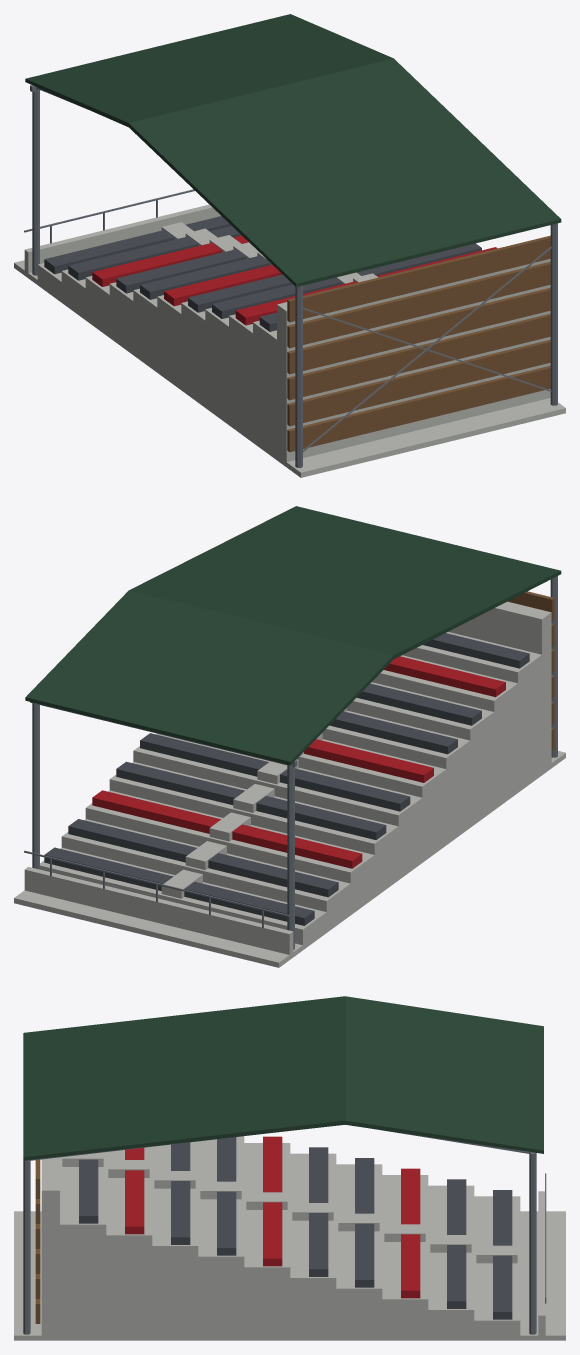
Rendered from grada-spa.glb.
3 renders of one model, top to bottom at view 1: azimuth 30°, elevation 25°; view 2: azimuth 150°, elevation 25°; view 3: azimuth 270°, elevation 25°, orthographic. The views are drawn at different scales.
Parts seen in each view (by area): view 1: grada-spa; view 2: grada-spa; view 3: grada-spa.
Part boxes in pixels (box(x1,y1,x2,y2)): grada-spa: box(14, 14, 565, 477); grada-spa: box(14, 506, 565, 967); grada-spa: box(14, 996, 565, 1340).
Size of the model in its own units: 16 by 13.2 by 30.
